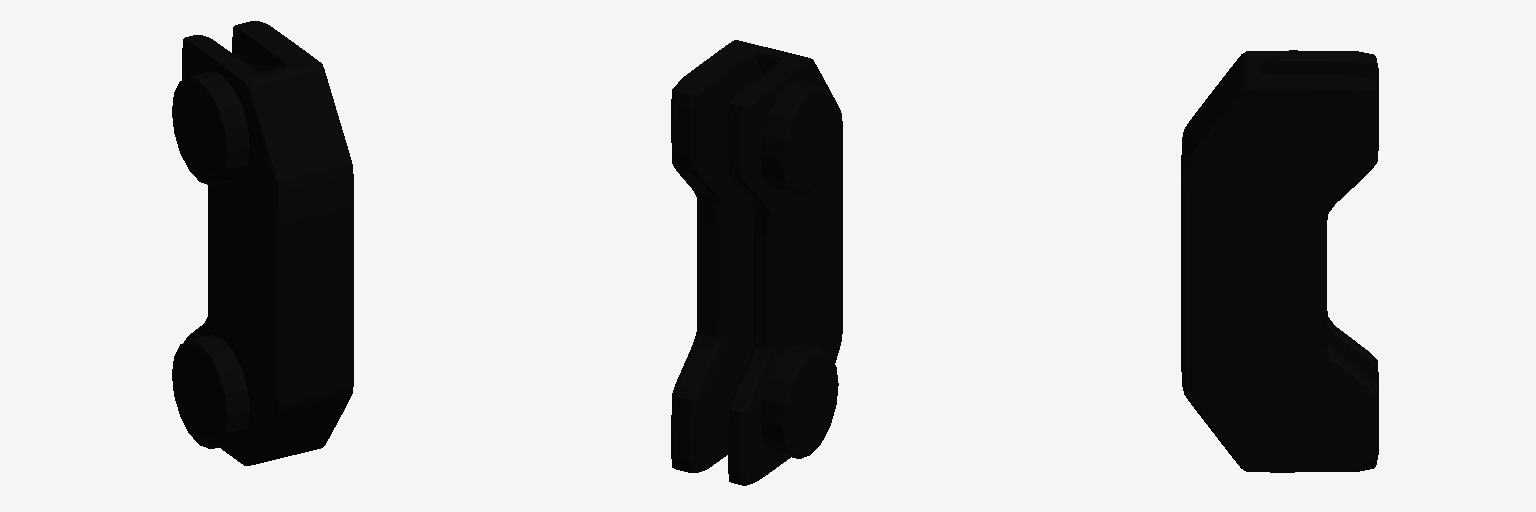
The model's file is SuspensionLB_Aston_Martin_DB9.obj.
3 views of the same model, side by side, from view 1: azimuth 30°, elevation 25°; view 2: azimuth 150°, elevation 25°; view 3: azimuth 270°, elevation 25° (orthographic).
Visible parts, largest first — view 1: Object_#5.001_Object_#5.002; view 2: Object_#5.001_Object_#5.002; view 3: Object_#5.001_Object_#5.002.
Boxes of the visible parts, <box> form: Object_#5.001_Object_#5.002: <box>172,21,353,465</box>; Object_#5.001_Object_#5.002: <box>671,40,842,485</box>; Object_#5.001_Object_#5.002: <box>1181,50,1378,472</box>.
Size of the model in its own units: 0.0629 by 0.2286 by 0.1059.